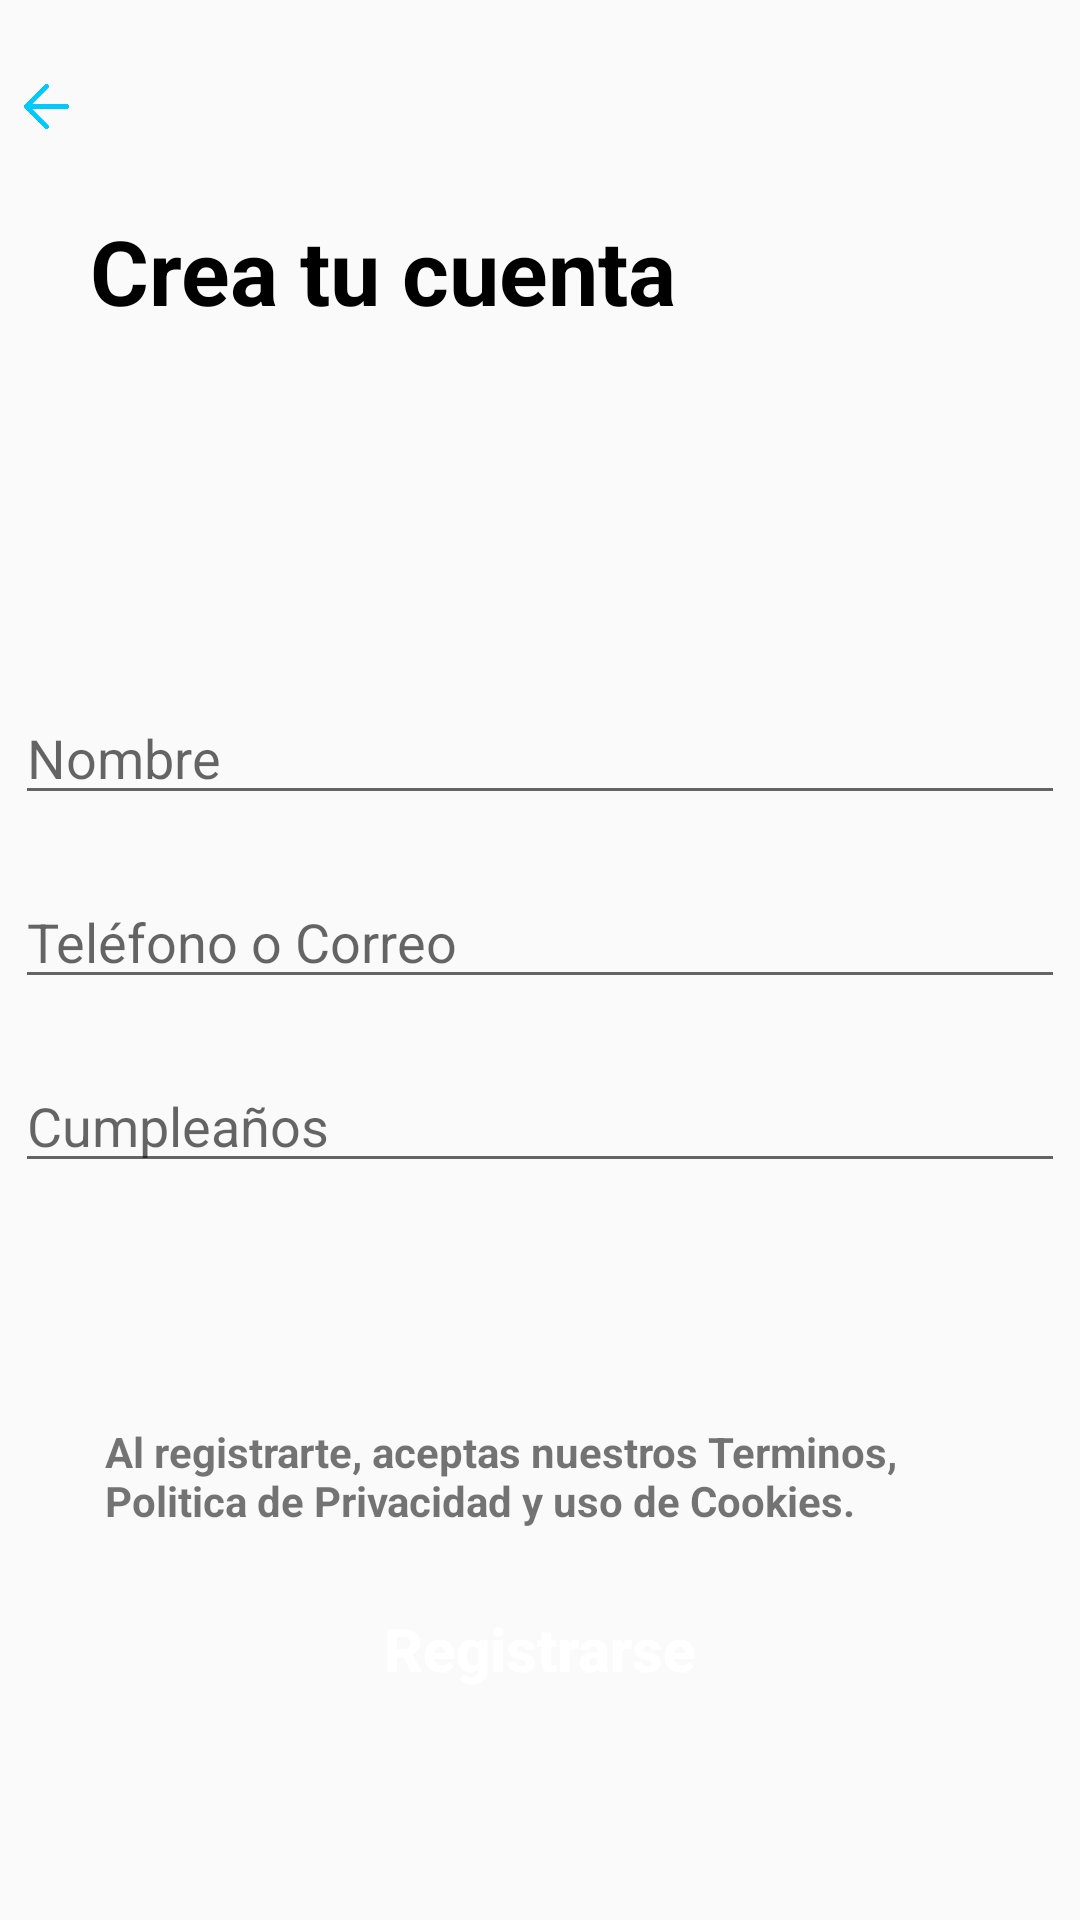

Icons on this 1080×1920 Android screen, each with the point to tap as (x,y):
leftarrow: (46,106)
